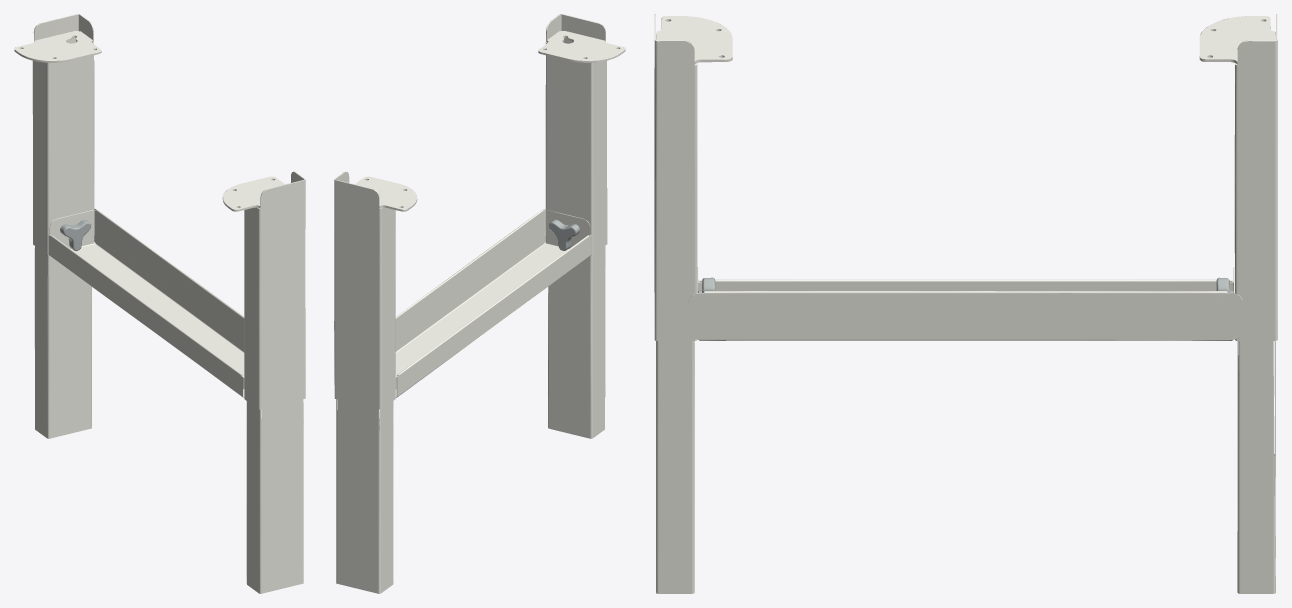
File: 19 - PÅHL - 桌面底框, 白色 IKEA 線上購物.glb
The picture shows the model from 3 angles, left to right: view 1: azimuth 30°, elevation 25°; view 2: azimuth 150°, elevation 25°; view 3: azimuth 270°, elevation 25°; orthographic projection. The views are drawn at different scales.
Parts seen in each view (by area): view 1: 50306480-PÃƒâ€¦HL001; view 2: 50306480-PÃƒâ€¦HL001; view 3: 50306480-PÃƒâ€¦HL001.
Part boxes in pixels (x1,y1,x2,y2): 50306480-PÃƒâ€¦HL001: (14,14,305,593); 50306480-PÃƒâ€¦HL001: (334,14,625,593); 50306480-PÃƒâ€¦HL001: (654,14,1277,593).
Size of the model in its own units: 0.1039 by 0.5721 by 0.5833.
1 material, 1 textured.
